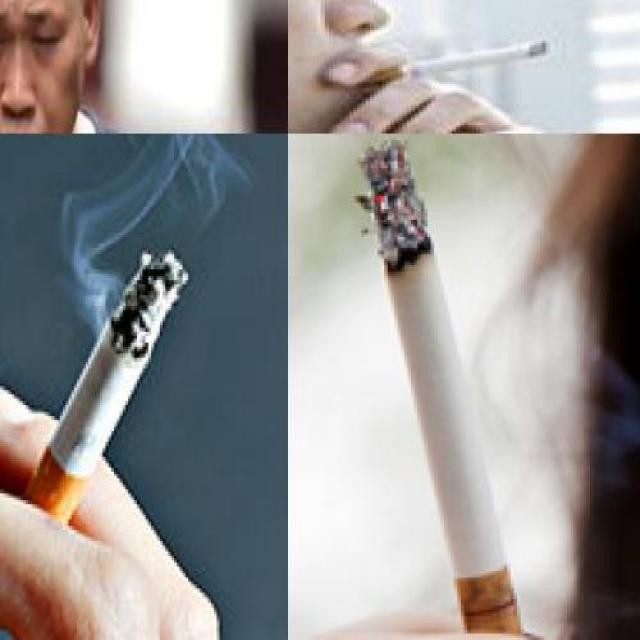cigarette: (363, 142, 523, 634), (0, 245, 189, 607), (348, 40, 549, 90)
